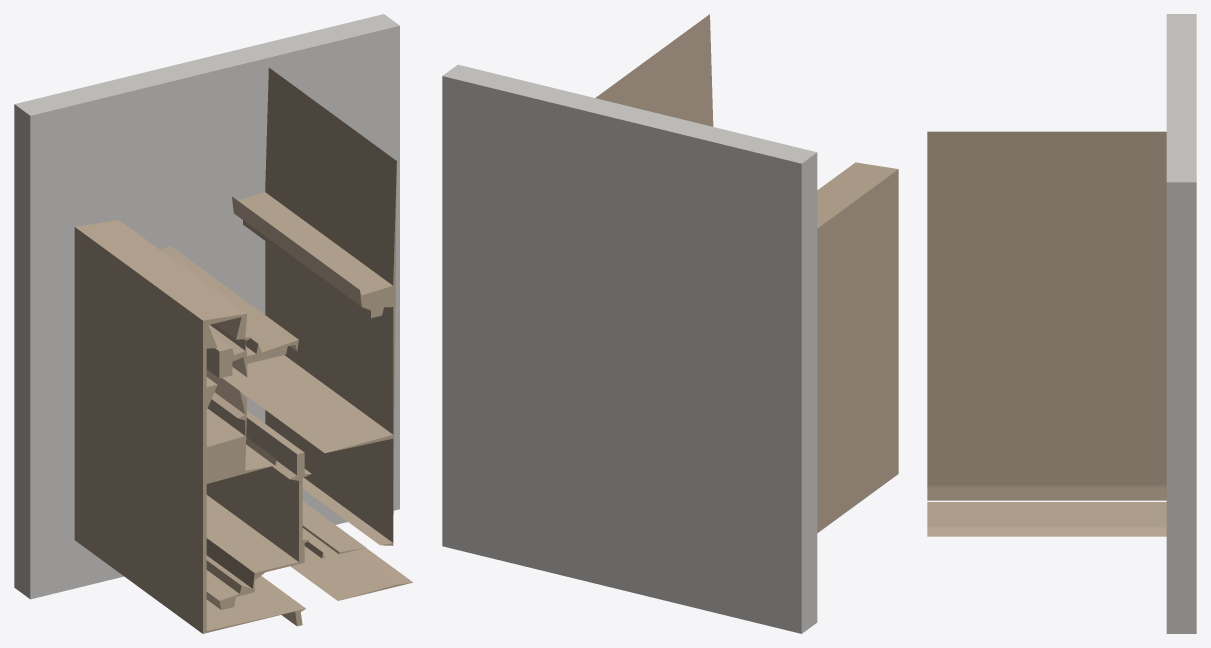
Rendered from download (2).glb.
3 renders of one model, left to right at view 1: azimuth 30°, elevation 25°; view 2: azimuth 150°, elevation 25°; view 3: azimuth 270°, elevation 25°, orthographic. The views are drawn at different scales.
Visible parts, largest first — view 1: world; view 2: world; view 3: world.
Boxes of the visible parts, bbox=[...] form: world: bbox=[14, 14, 412, 633]; world: bbox=[442, 14, 898, 633]; world: bbox=[927, 14, 1196, 633].
Size of the model in its own units: 2 by 2.5 by 1.35.
